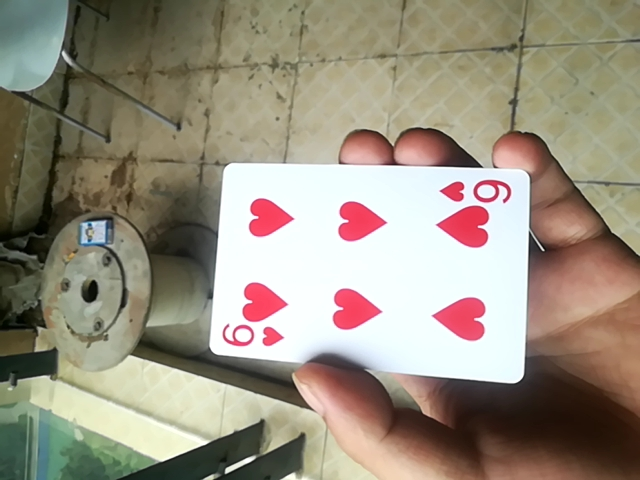hx 6: (208, 167, 530, 383)
